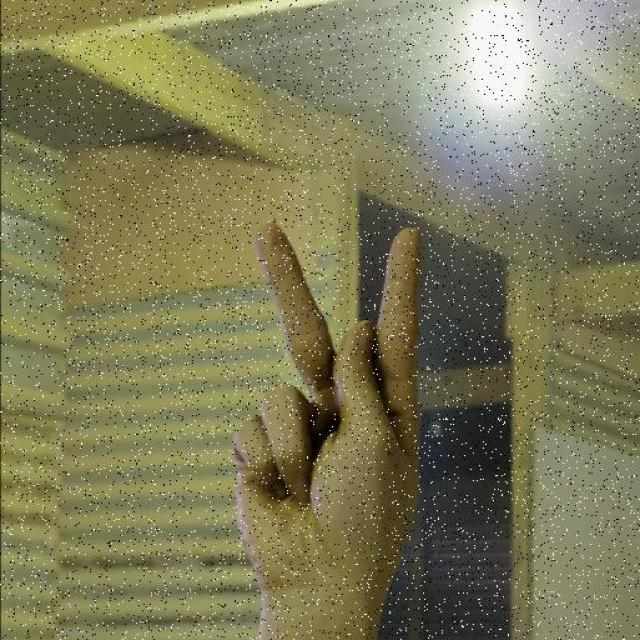K: (228, 220, 428, 594)
